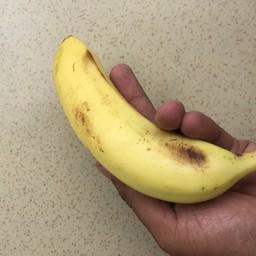Good_banana: (55, 33, 256, 207)
